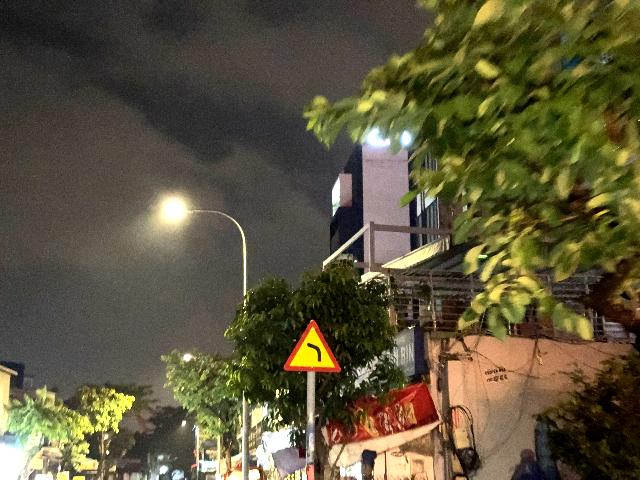cho-ngoat-nguy-hiem-ben-trai: (284, 319, 341, 372)
